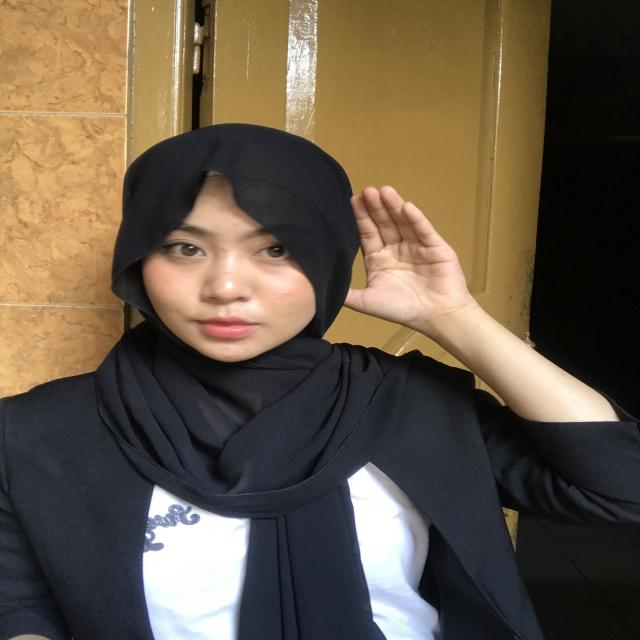mendengar: (331, 178, 488, 348)
